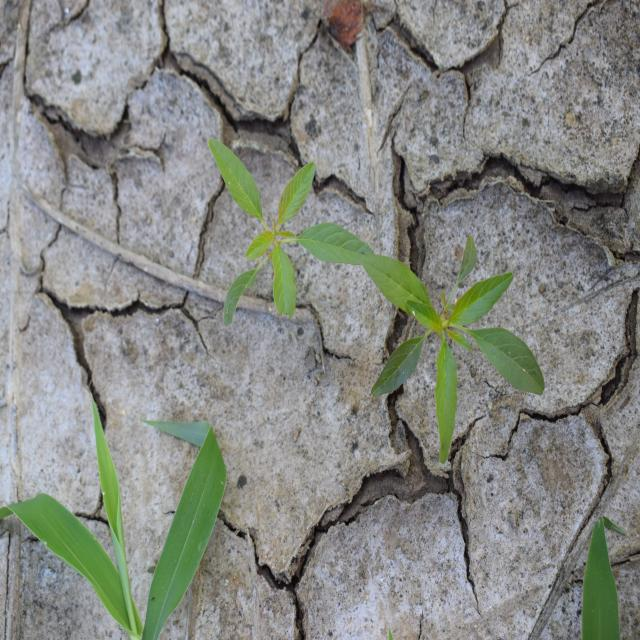Waterhemp: (361, 233, 545, 465), (207, 136, 377, 328)
